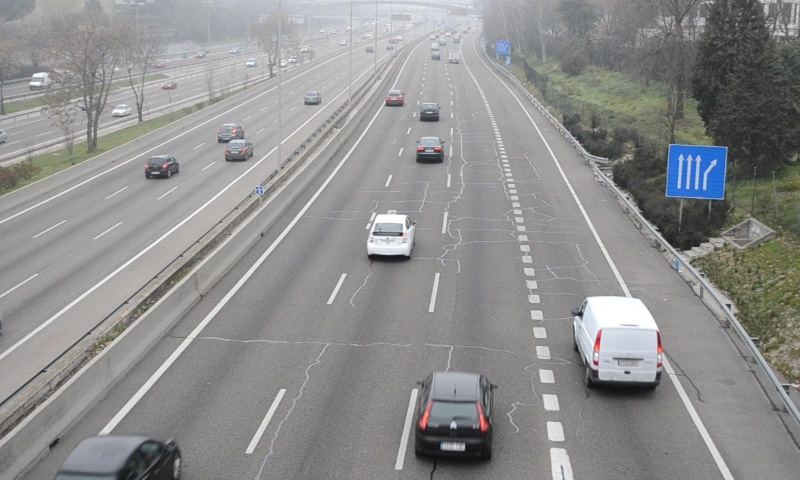car: (414, 373, 496, 463), (368, 212, 414, 256), (415, 136, 444, 161), (419, 100, 438, 120), (384, 88, 404, 106)
van: (573, 296, 662, 388)
